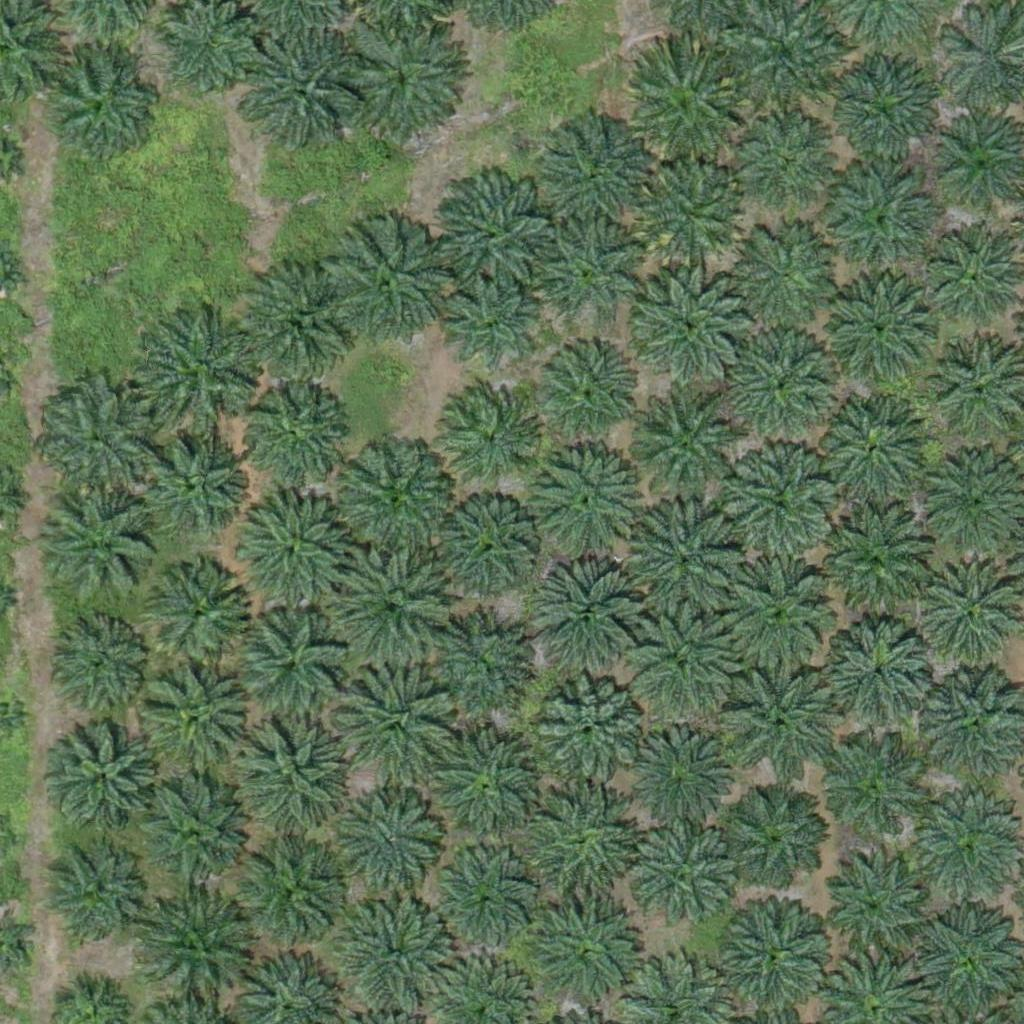Kelapa_Sawit: (239, 29, 364, 155), (342, 18, 467, 144), (429, 172, 554, 298), (323, 225, 448, 351), (140, 310, 265, 436), (330, 543, 455, 669), (332, 433, 457, 559), (518, 784, 643, 910), (528, 894, 653, 1020), (227, 711, 352, 837), (334, 659, 459, 785), (622, 47, 747, 172), (242, 264, 355, 378), (342, 896, 455, 1010), (44, 49, 157, 162), (828, 59, 941, 172), (818, 270, 931, 383), (636, 266, 749, 379), (633, 393, 746, 506), (627, 506, 740, 619), (526, 440, 639, 553), (626, 614, 739, 727), (720, 557, 833, 670), (232, 491, 345, 604), (231, 608, 344, 721), (825, 851, 938, 964), (718, 897, 831, 1010), (724, 672, 837, 785), (620, 717, 733, 830), (527, 562, 639, 676), (234, 840, 346, 954), (142, 896, 254, 1010), (138, 780, 250, 894), (141, 663, 253, 777), (729, 2, 841, 115), (814, 391, 926, 504), (821, 509, 933, 622), (727, 218, 839, 331), (728, 328, 840, 441), (726, 444, 838, 557), (824, 622, 936, 735), (41, 383, 153, 496), (50, 489, 162, 602), (816, 739, 928, 852), (629, 826, 741, 939), (535, 675, 647, 788), (430, 729, 542, 842), (923, 226, 1023, 327), (831, 168, 931, 269), (734, 111, 834, 212), (640, 161, 740, 262), (550, 123, 650, 224), (538, 221, 638, 322), (534, 342, 634, 443), (440, 274, 540, 375), (143, 433, 243, 534), (149, 561, 249, 662), (726, 789, 826, 890), (433, 857, 533, 958), (345, 797, 445, 898), (438, 389, 538, 489), (436, 498, 536, 598), (421, 621, 521, 721), (242, 382, 342, 482), (54, 727, 154, 827), (42, 853, 142, 953), (59, 623, 146, 711)
